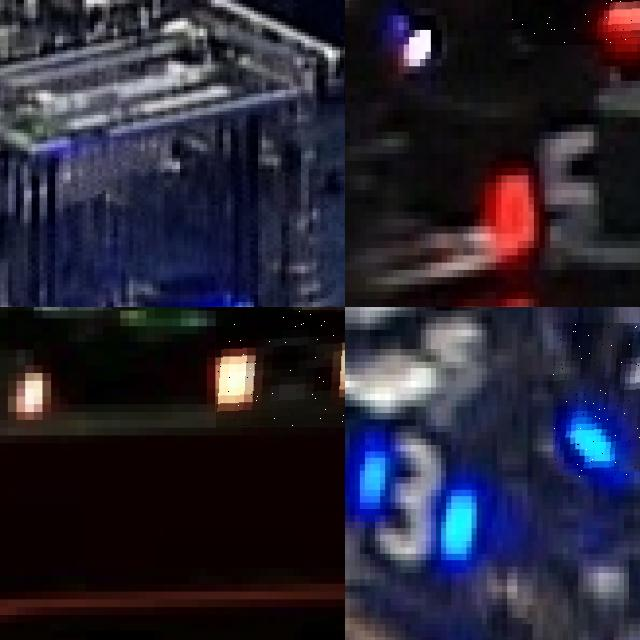B3: (350, 410, 492, 582), (552, 323, 640, 476)
R5: (485, 125, 604, 277), (512, 0, 640, 44)
Rs: (215, 310, 345, 427)
